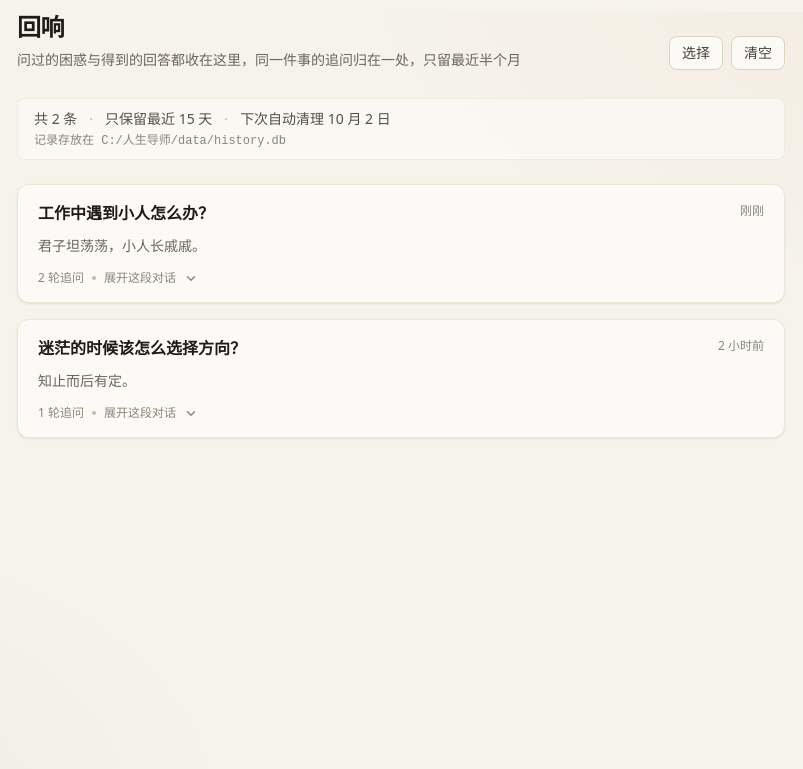
话题列表 › 再点一次就收起
The image size is (803, 769).
Step 1. Click the button "工作中遇到小人怎么办？ 刚刚 君子坦荡荡，小人长戚戚。 2 轮追问 展开这段对话" → point(126, 214), box [18, 185, 784, 302]
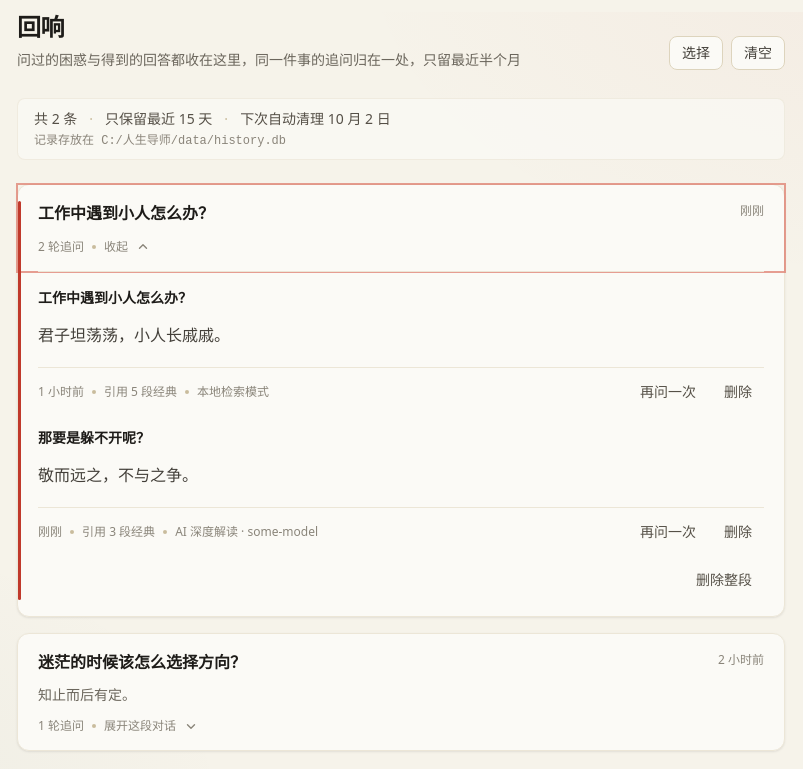
Check: the text "引用 5 段经典" is shown, box [104, 383, 177, 400]
Step 2. Click the button "工作中遇到小人怎么办？ 刚刚 2 轮追问 收起" → point(126, 214), box [18, 185, 784, 271]
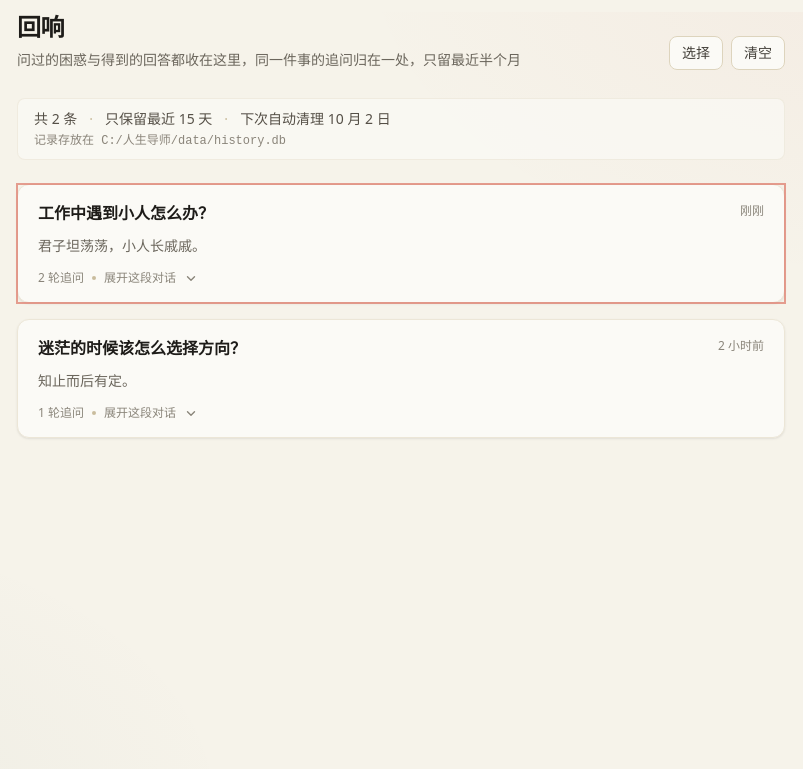
Check: the text "引用 5 段经典" is gone
